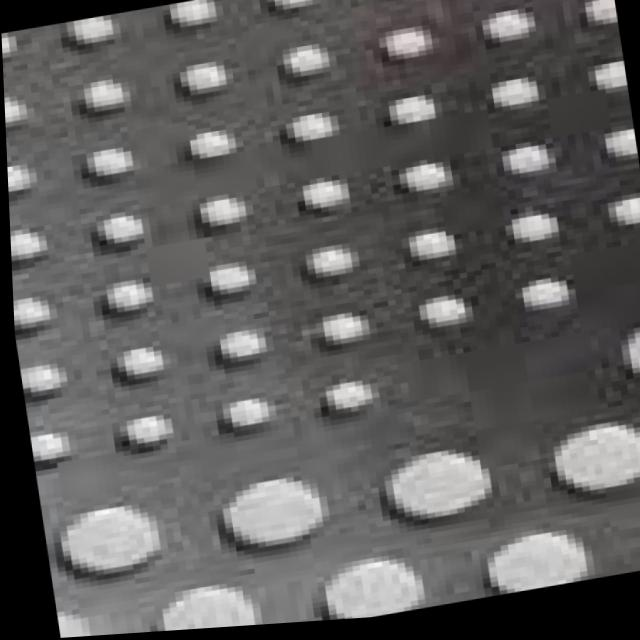metal-plates: (2, 1, 640, 639)
